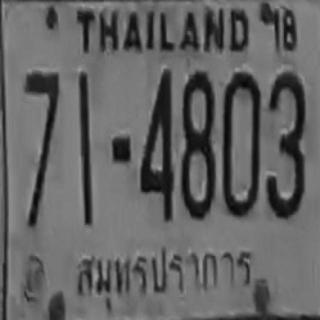N00: (222, 71, 260, 216)
N01: (78, 71, 91, 190)
N03: (265, 70, 305, 216)
N04: (138, 67, 172, 220)
N07: (24, 70, 60, 174)
N08: (179, 70, 214, 217)
P57: (69, 239, 257, 295)
